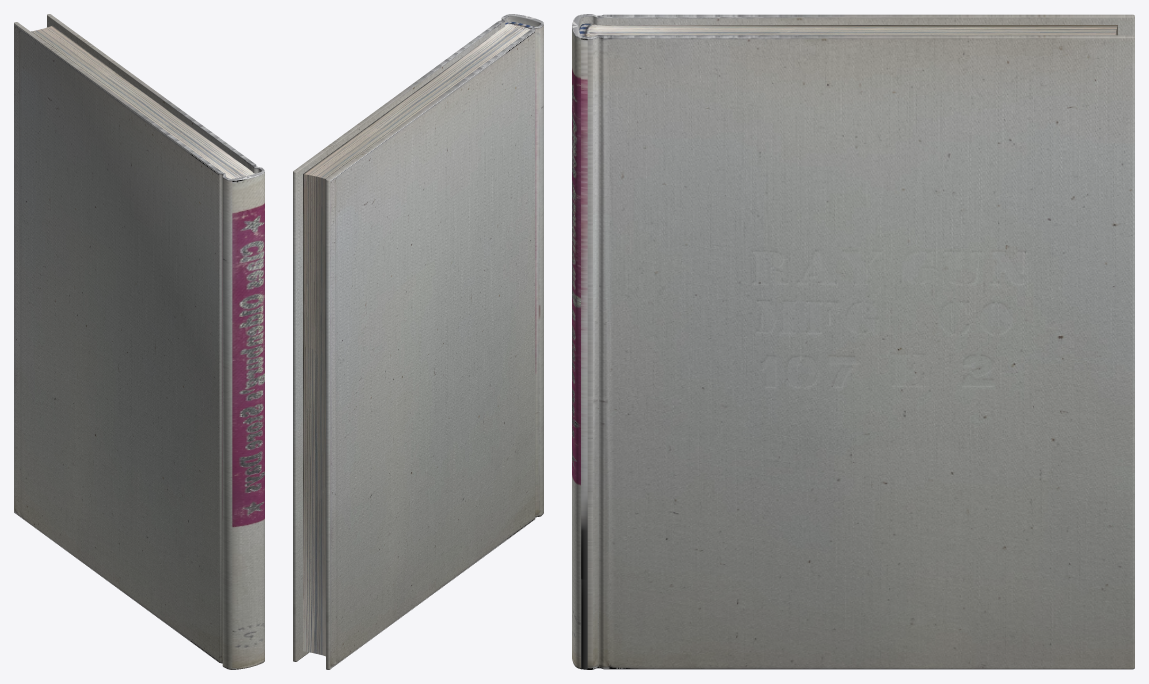
File: 6_Oldenburg_Claes.glb
3 views of the same model, side by side, from view 1: azimuth 30°, elevation 25°; view 2: azimuth 150°, elevation 25°; view 3: azimuth 270°, elevation 25° (orthographic). The views are drawn at different scales.
Visible parts, largest first — view 1: Object_40.002; view 2: Object_40.002; view 3: Object_40.002.
Boxes of the visible parts, x1,y1,x2,y2 form: Object_40.002: (14, 14, 264, 669); Object_40.002: (293, 14, 543, 669); Object_40.002: (572, 14, 1134, 669).
Size of the model in its own units: 0.0218 by 0.26 by 0.21.
Materials: 2 (2 with a texture image).
